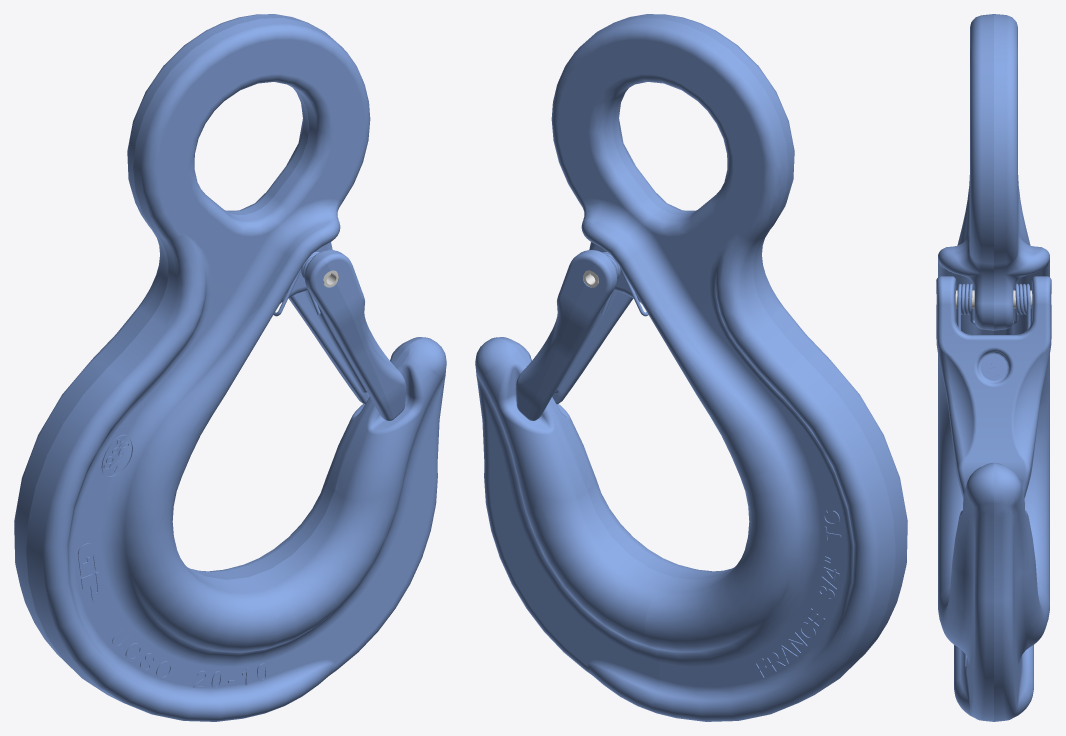
File: hook.glb
3 renders of one model, left to right at view 1: azimuth 30°, elevation 25°; view 2: azimuth 150°, elevation 25°; view 3: azimuth 270°, elevation 25°, orthographic.
Visible parts, largest first — view 1: gpucso20_1, gpucso20_3; view 2: gpucso20_1, gpucso20_3; view 3: gpucso20_1, gpucso20_3, gpucso20_4, gpucso20_2.
Part boxes in pixels (box(x1,y1,x2,y2)): gpucso20_1: box(14, 14, 446, 721); gpucso20_3: box(288, 250, 406, 420); gpucso20_1: box(475, 14, 907, 721); gpucso20_3: box(515, 250, 633, 420); gpucso20_1: box(938, 14, 1049, 721); gpucso20_3: box(936, 276, 1051, 497); gpucso20_4: box(957, 283, 1030, 329); gpucso20_2: box(955, 290, 1032, 308).
Size of the model in its own units: 208 by 326 by 50.49.
